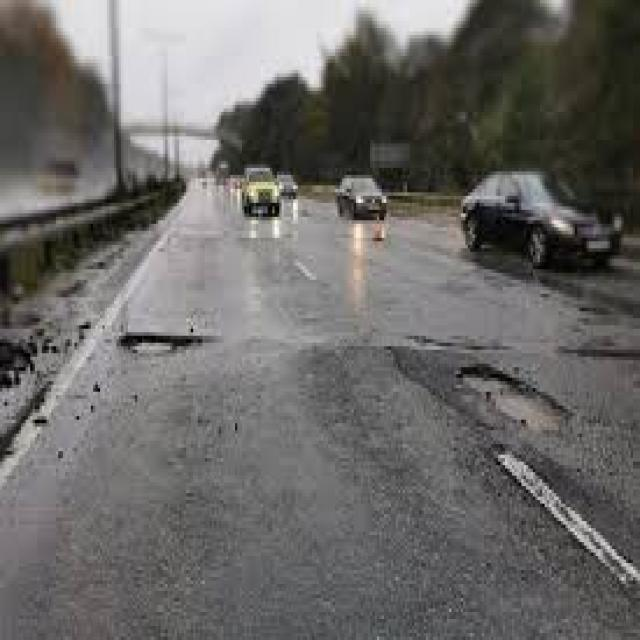Pothole: (458, 363, 574, 431), (118, 313, 203, 358)
